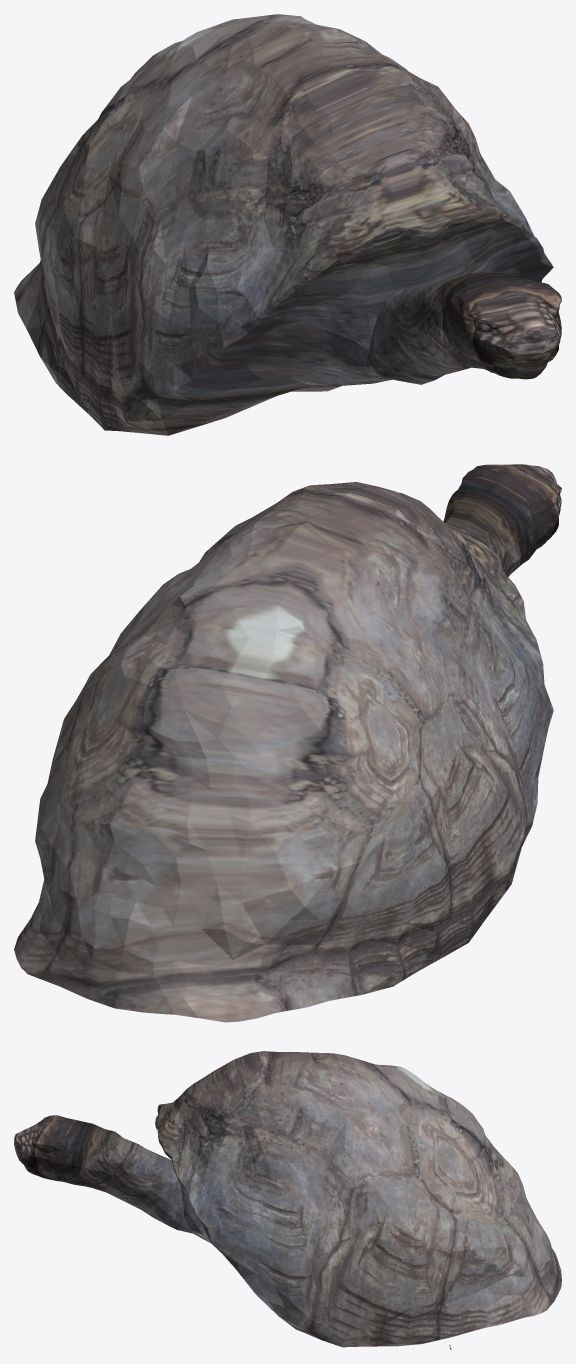
Rendered from Tortoise_Body.dae.
The picture shows the model from 3 angles, top to bottom: view 1: azimuth 30°, elevation 25°; view 2: azimuth 150°, elevation 25°; view 3: azimuth 270°, elevation 25°; orthographic projection. The views are drawn at different scales.
Parts seen in each view (by area): view 1: tortoise; view 2: tortoise; view 3: tortoise.
Part boxes in pixels (<box>): tortoise: <box>14,14,561,435</box>; tortoise: <box>14,464,561,1022</box>; tortoise: <box>14,1051,561,1349</box>.
Size of the model in its own units: 0.7036 by 1.33 by 0.6782.
Materials: 5 (5 with a texture image).
